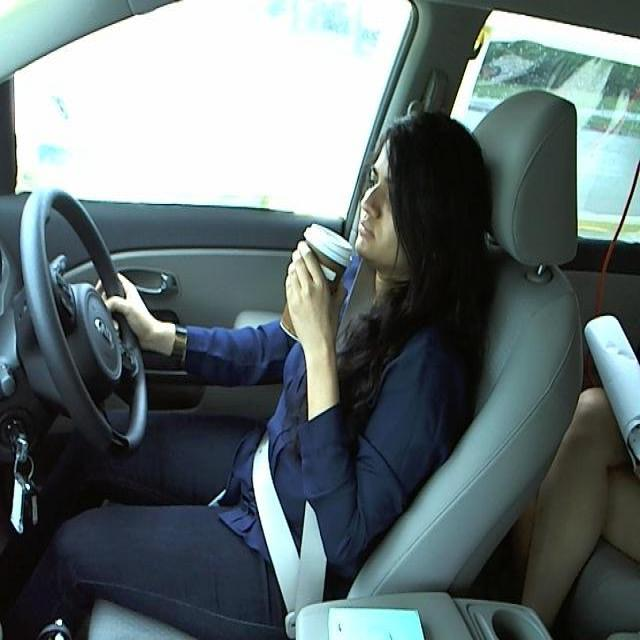drinking: (276, 222, 356, 346)
